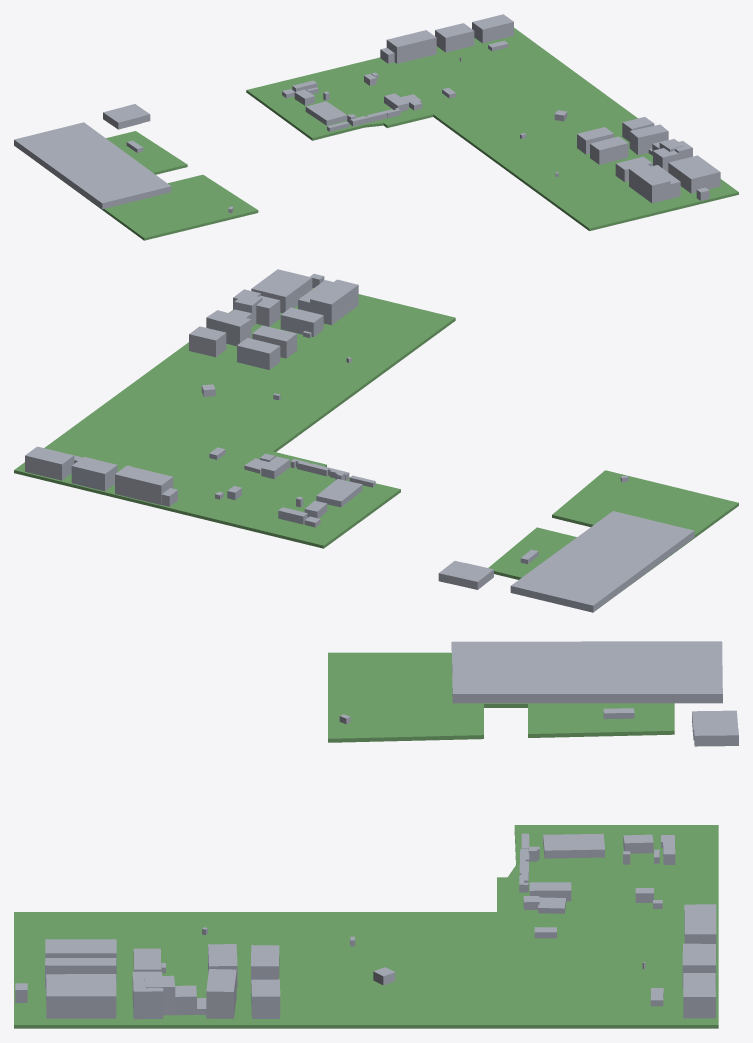
File: SM_Blockout_Fondale_v2.fbx
The picture shows the model from 3 angles, top to bottom: view 1: azimuth 30°, elevation 25°; view 2: azimuth 150°, elevation 25°; view 3: azimuth 270°, elevation 25°; orthographic projection. The views are drawn at different scales.
Visible parts, largest first — view 1: SM_Blockout_Fondale_v2_Terreno, SM_Blockout_Fondale_v2_Edifici; view 2: SM_Blockout_Fondale_v2_Terreno, SM_Blockout_Fondale_v2_Edifici; view 3: SM_Blockout_Fondale_v2_Terreno, SM_Blockout_Fondale_v2_Edifici.
Part boxes in pixels (left/top/right/bottom): SM_Blockout_Fondale_v2_Terreno: left=41, top=28, right=738, bottom=240; SM_Blockout_Fondale_v2_Edifici: left=14, top=14, right=720, bottom=212; SM_Blockout_Fondale_v2_Terreno: left=14, top=288, right=738, bottom=585; SM_Blockout_Fondale_v2_Edifici: left=25, top=269, right=694, bottom=612; SM_Blockout_Fondale_v2_Terreno: left=14, top=652, right=718, bottom=1028; SM_Blockout_Fondale_v2_Edifici: left=15, top=641, right=738, bottom=1019.
Size of what is drawn, in the model's own units: 60341 by 49388 by 2431.
